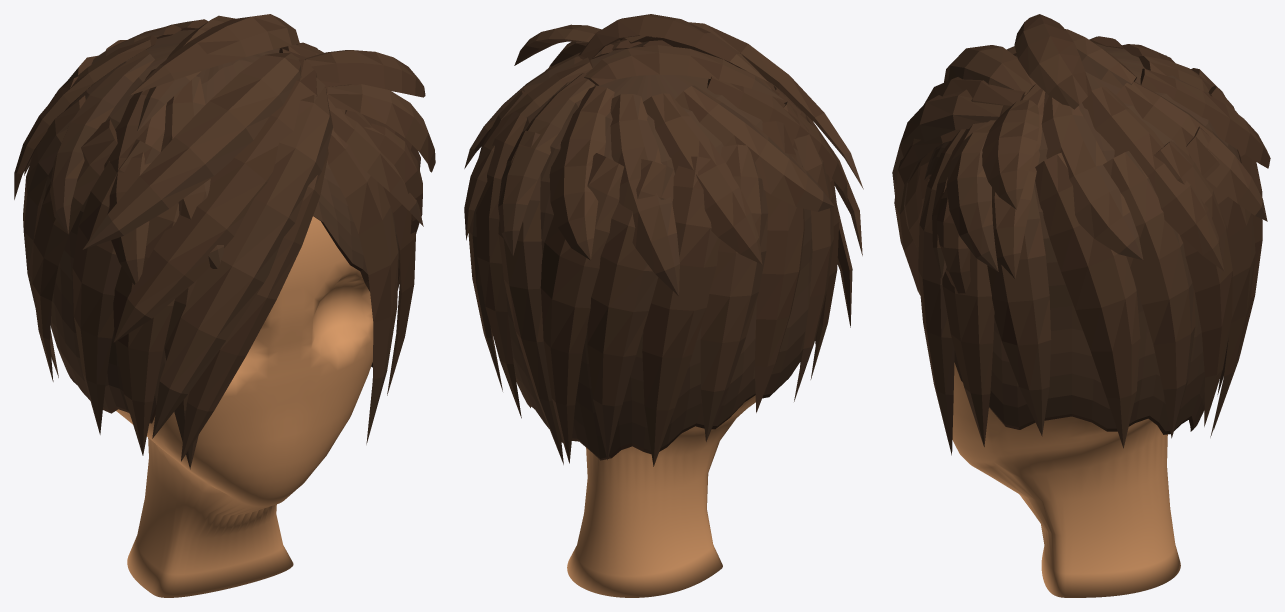
Rendered from montagem-feminina-01.glb.
3 views of the same model, side by side, from view 1: azimuth 30°, elevation 25°; view 2: azimuth 150°, elevation 25°; view 3: azimuth 270°, elevation 25° (orthographic). The views are drawn at different scales.
Parts seen in each view (by area): view 1: Corte_Feminino_01, Base_Feminina_01; view 2: Corte_Feminino_01, Base_Feminina_01; view 3: Corte_Feminino_01, Base_Feminina_01.
Boxes of the visible parts, left/top/right/bottom form: Corte_Feminino_01: left=14, top=14, right=435, bottom=469; Base_Feminina_01: left=116, top=216, right=373, bottom=597; Corte_Feminino_01: left=464, top=14, right=863, bottom=466; Base_Feminina_01: left=567, top=395, right=755, bottom=597; Corte_Feminino_01: left=892, top=14, right=1270, bottom=455; Base_Feminina_01: left=952, top=362, right=1180, bottom=597.
Bounding box in the file's own units: 0.222 × 0.3331 × 0.2118.
